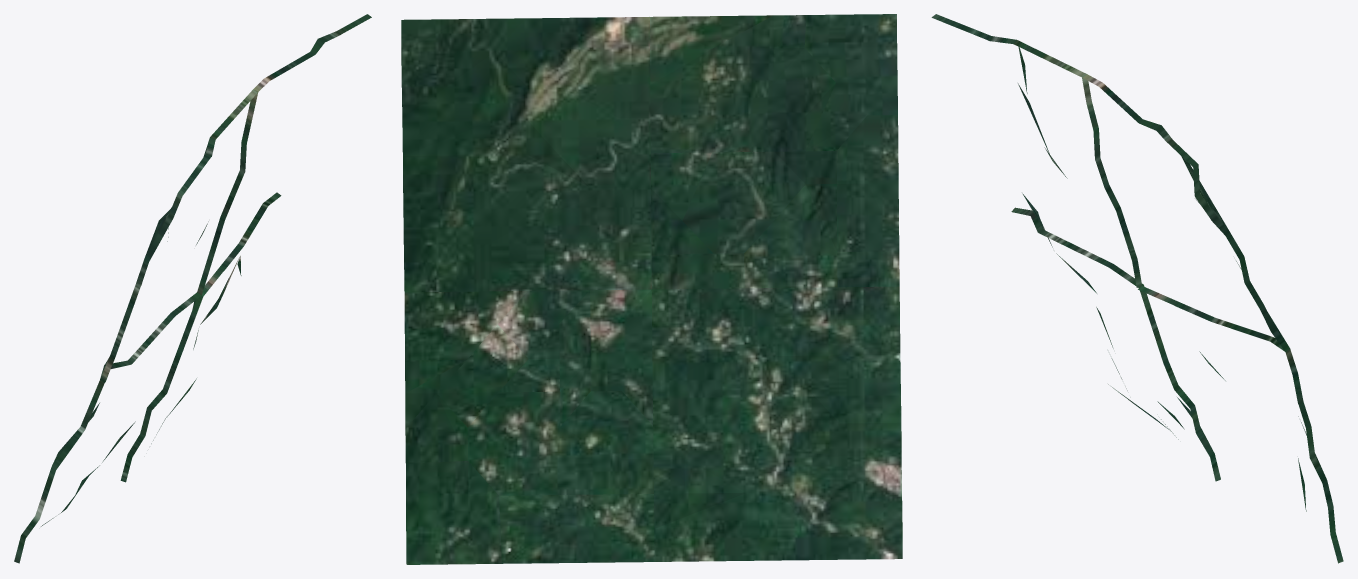
3 renders of one model, left to right at view 1: azimuth 30°, elevation 25°; view 2: azimuth 150°, elevation 25°; view 3: azimuth 270°, elevation 25°, orthographic. The views are drawn at different scales.
Bounding box in the file's own units: 4674 × 4709 × 3969.
1 material, 1 textured.
